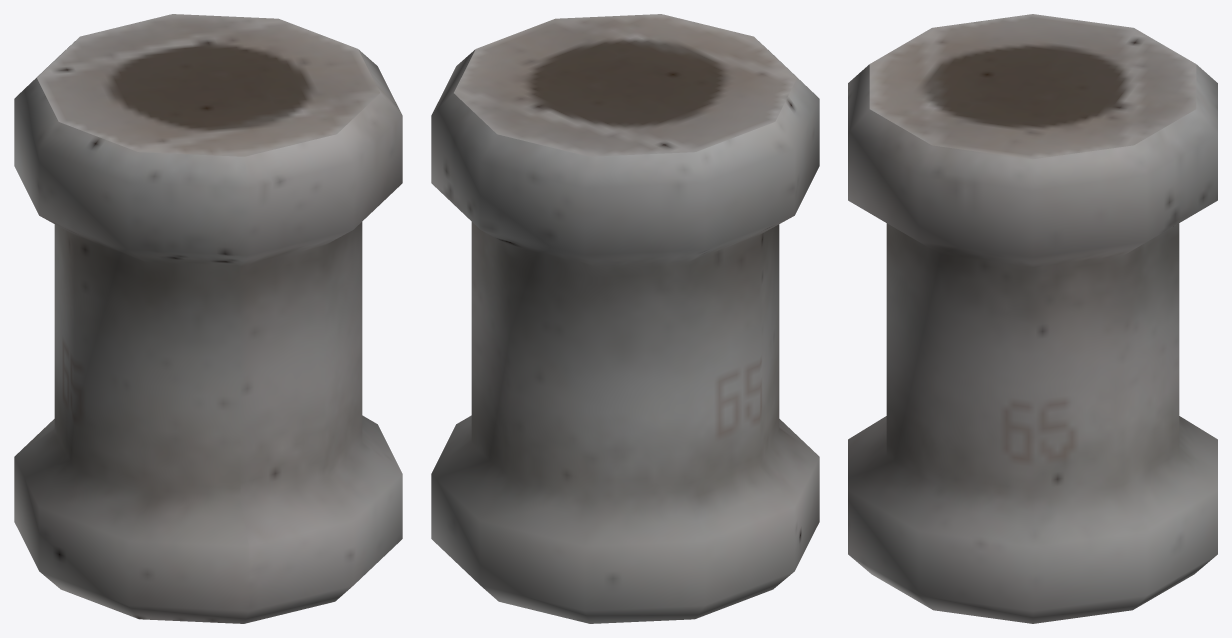
Rendered from SteelPipe_13a_snaps011.fbx.
3 views of the same model, side by side, from view 1: azimuth 30°, elevation 25°; view 2: azimuth 150°, elevation 25°; view 3: azimuth 270°, elevation 25° (orthographic).
Parts seen in each view (by area): view 1: SteelPipe_13a_snaps011_LOD0; view 2: SteelPipe_13a_snaps011_LOD0; view 3: SteelPipe_13a_snaps011_LOD0.
Part boxes in pixels (box(x1,y1,x2,y2)): SteelPipe_13a_snaps011_LOD0: box(14, 14, 402, 623); SteelPipe_13a_snaps011_LOD0: box(431, 14, 819, 623); SteelPipe_13a_snaps011_LOD0: box(848, 14, 1217, 623).
Size of what is drawn, in the model's own units: 9.08 by 12 by 8.64.
